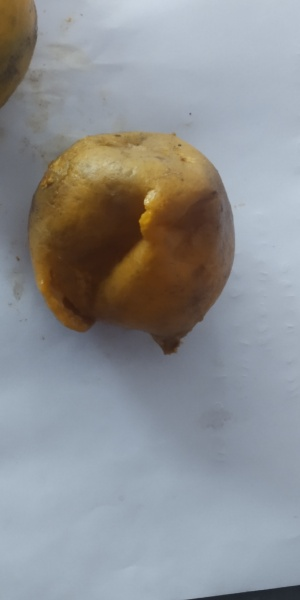BAD: (25, 132, 248, 353)
